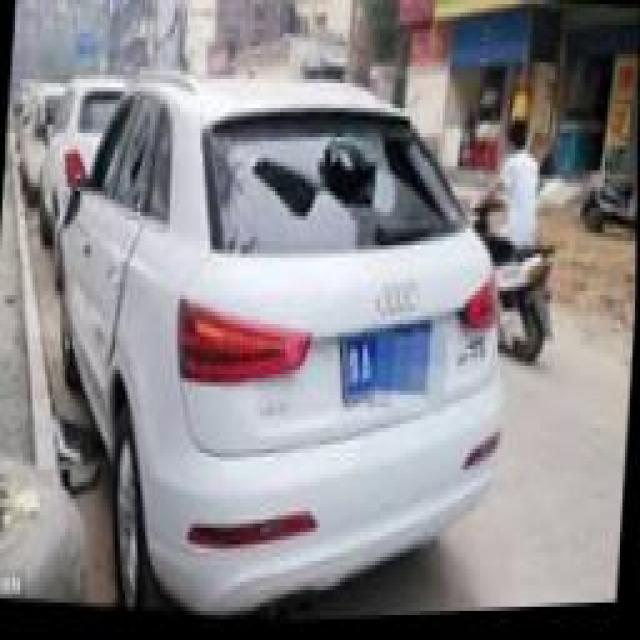replaceable: (213, 126, 452, 235), (120, 101, 156, 199)
